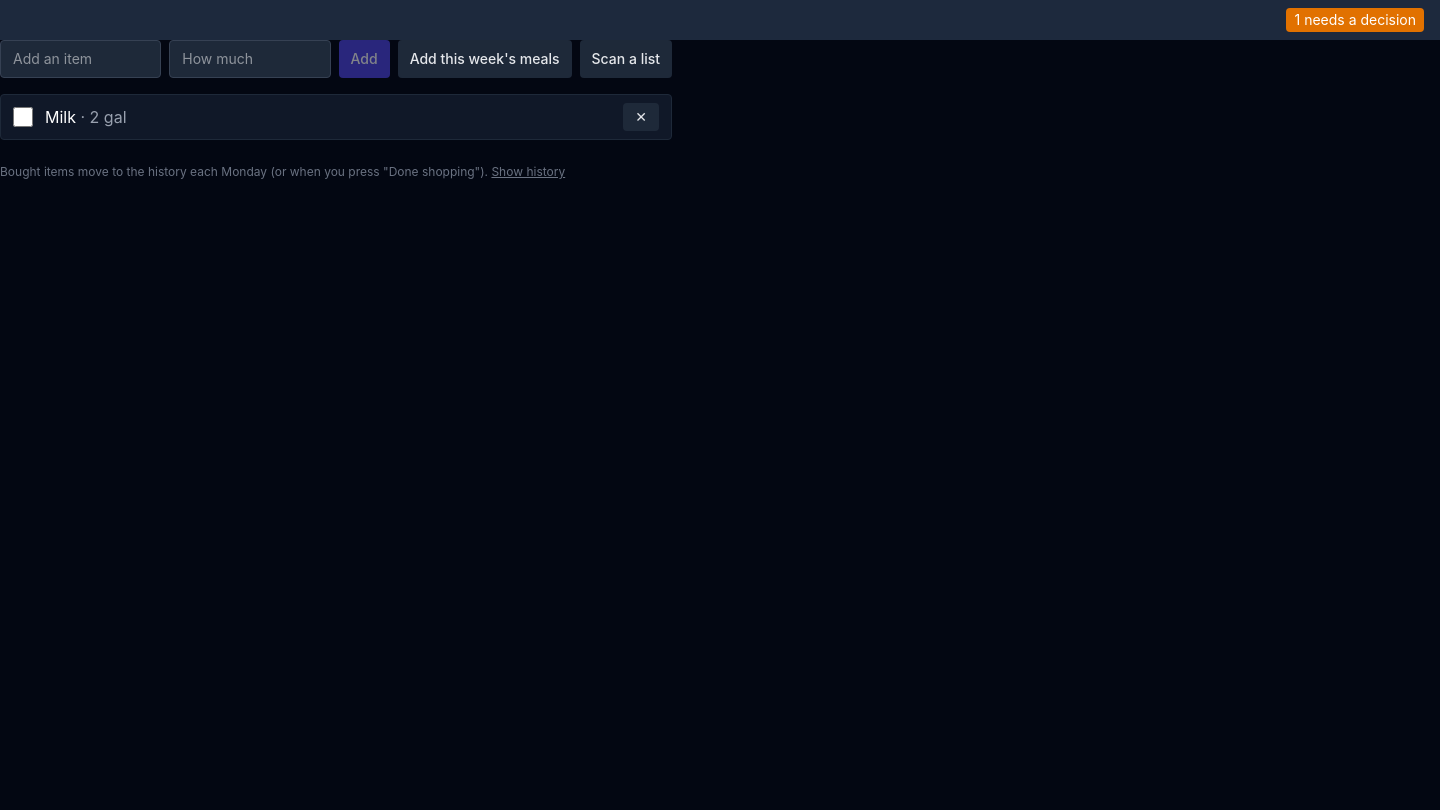
Test case: offline banner, sync and conflicts › a conflict asks: keep mine, keep theirs, or merge
Step 1. Click the button "1 needs a decision" → click(1355, 20), box [1286,8,1424,32]
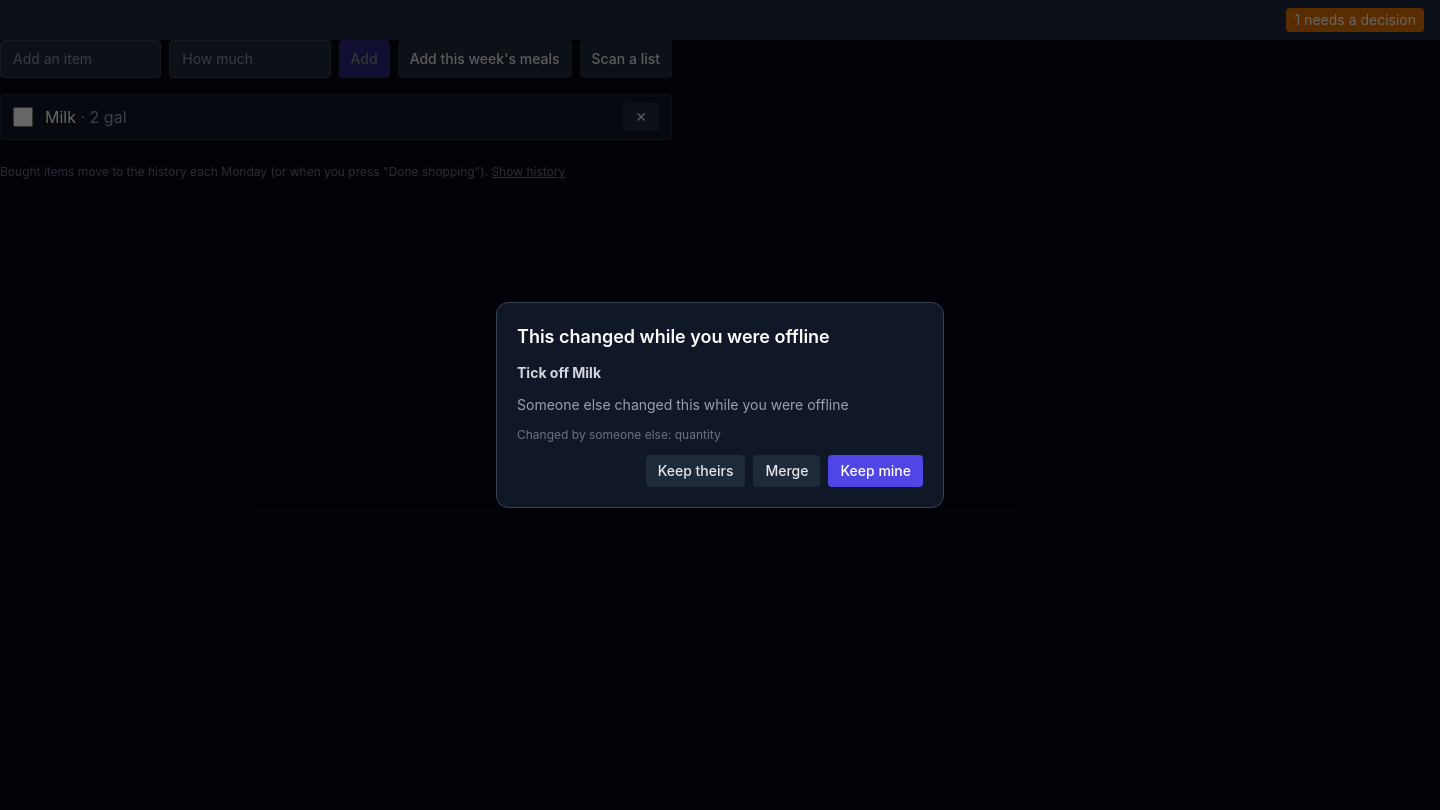
Expected: the dialog named "Offline change" shows "Tick off Milk", [517,364,601,381]
Expected: the dialog named "Offline change" shows "Changed by someone else: quantity"
Step 2. Click the button "Merge" → click(787, 471), box [753,455,820,487]
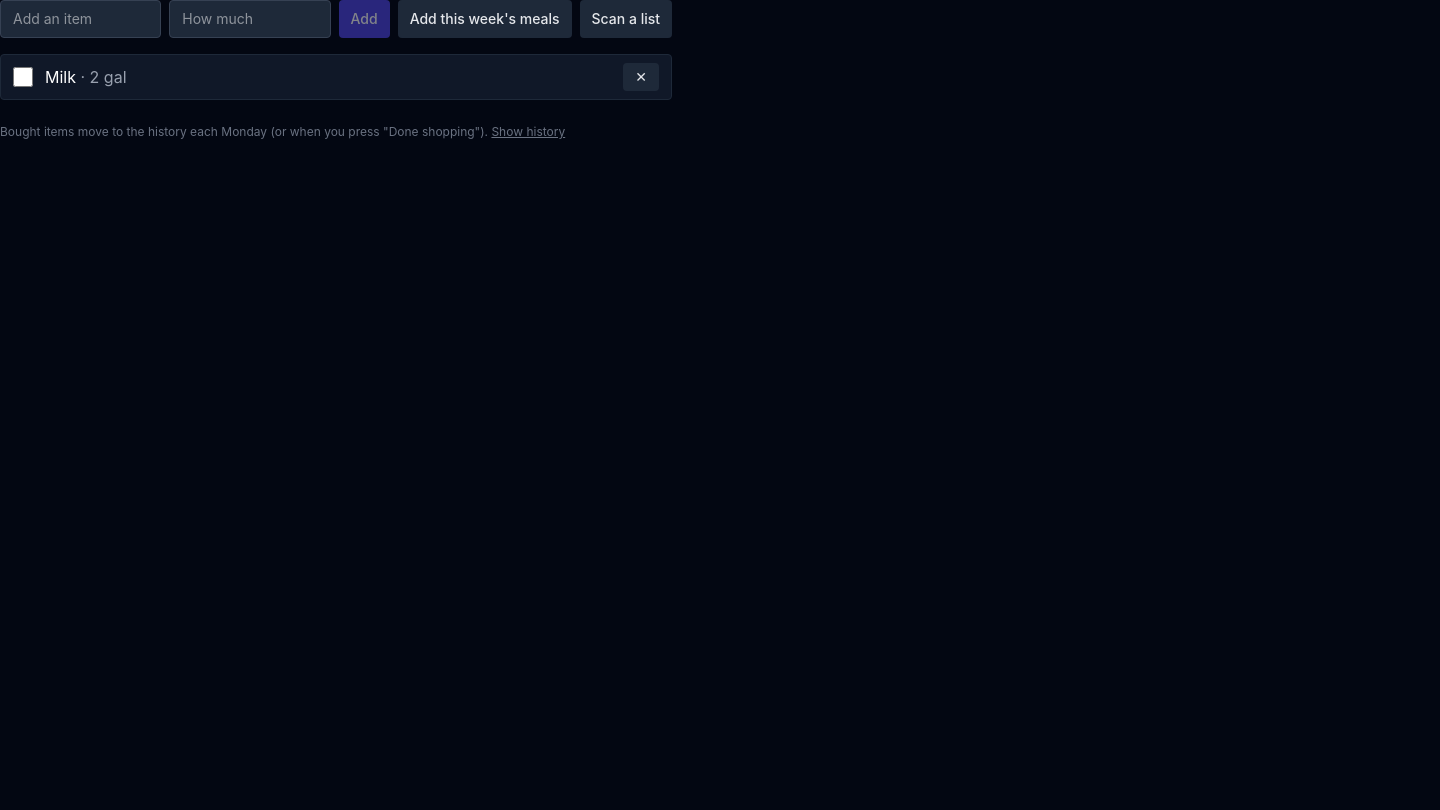
Expected: the dialog is gone
